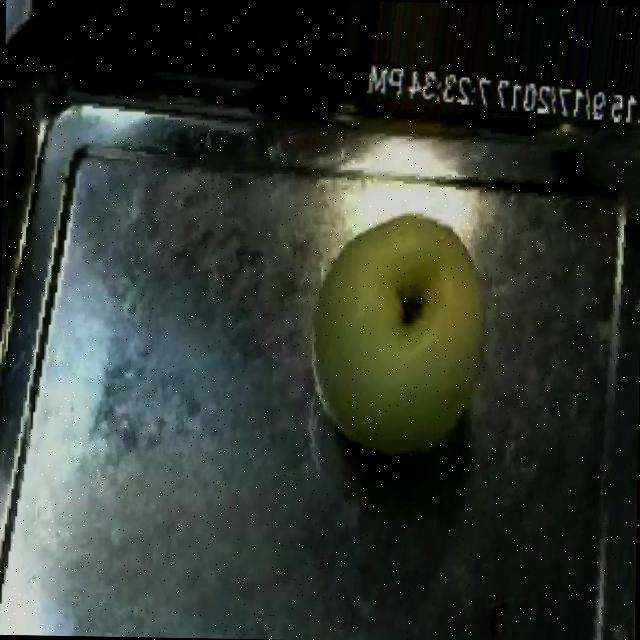apple: (258, 182, 548, 494)
